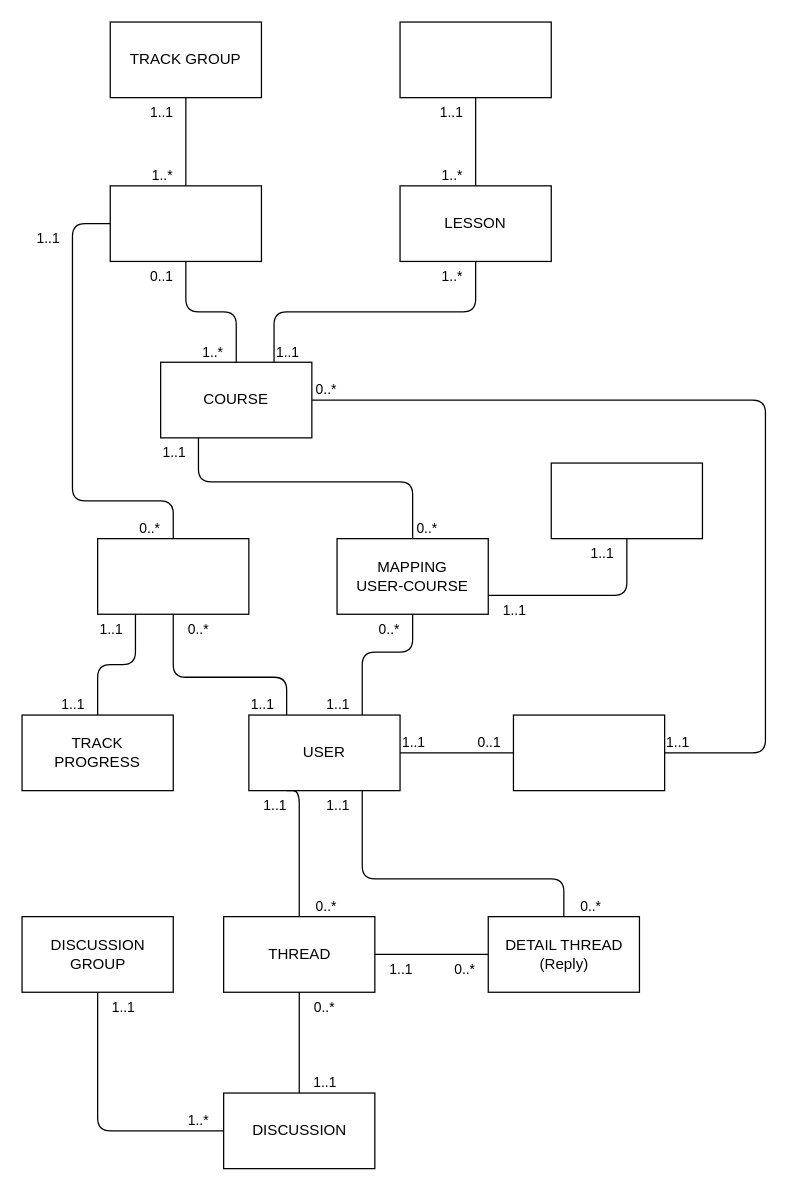
This 789x1191 diagram has some shape labels left out. Here are the shapes that lost their labels. From the top down, the centre of each, then its label:
At [475,59]: "LESSON GROUP".
At [185,223]: "TRACK".
At [626,500]: "COURSE PROGRESS".
At [172,575]: "MAPPING USER-TRACK".
At [588,752]: "INSTRUCTOR".
